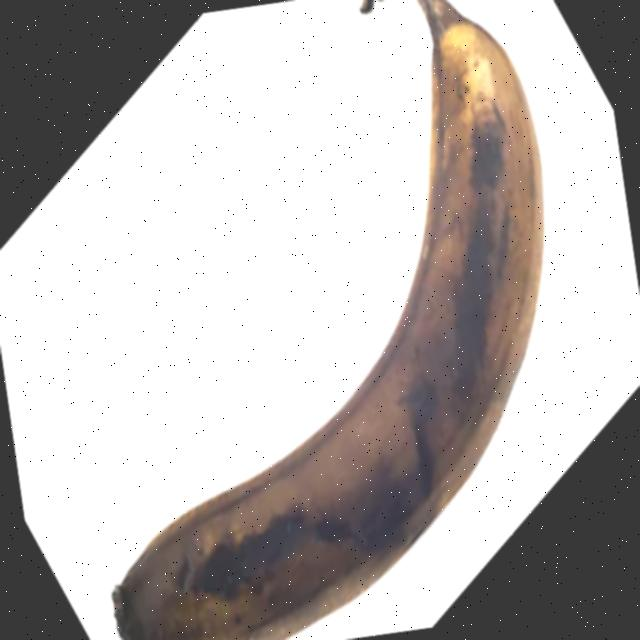Rotten: (14, 0, 624, 640)
